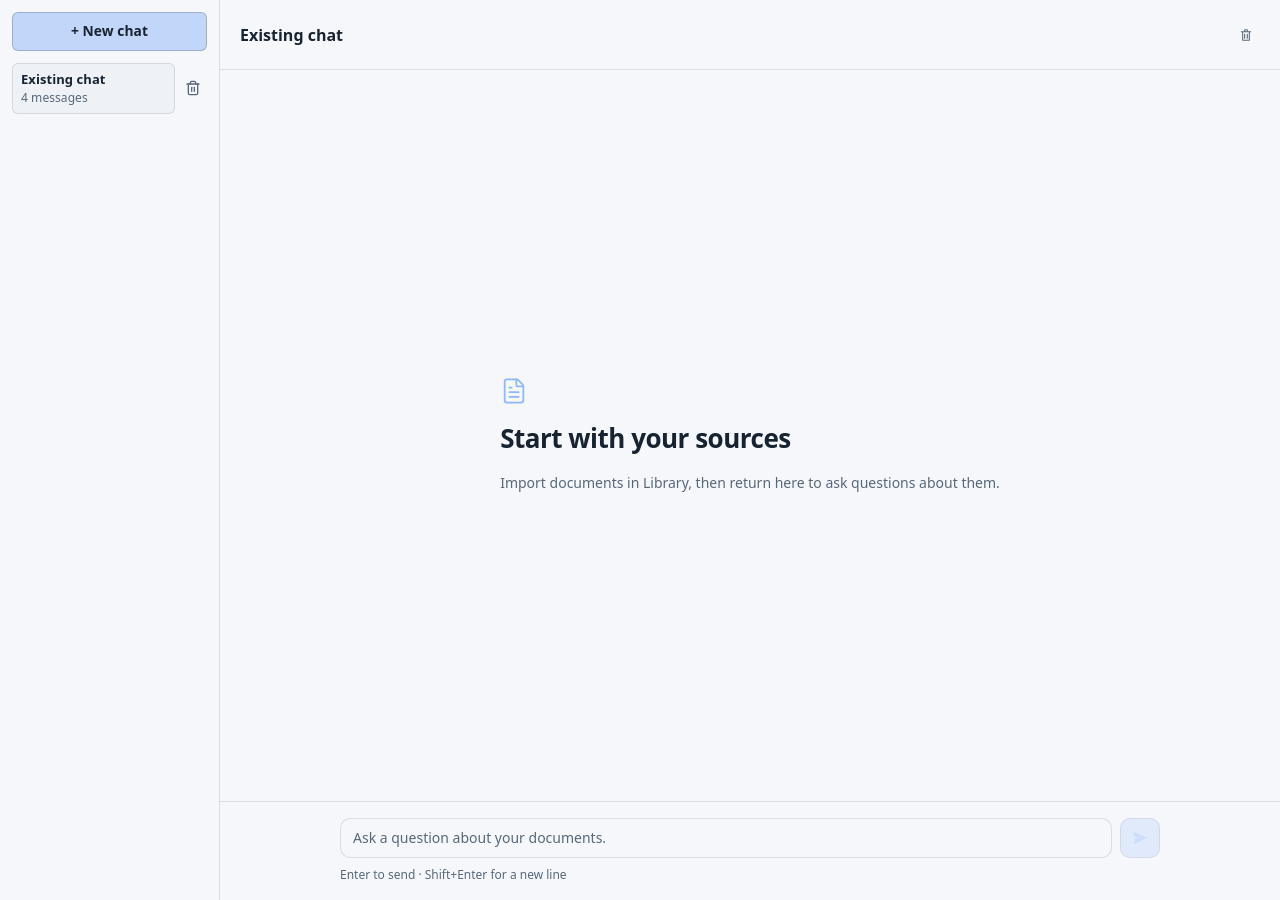
Test: regenerate an existing chat turn › reloads a newer unseen exchange instead of silently selecting it for deletion
Step 1. Click the button "Existing chat 4 messages" → [94, 88], box [12,63,175,114]
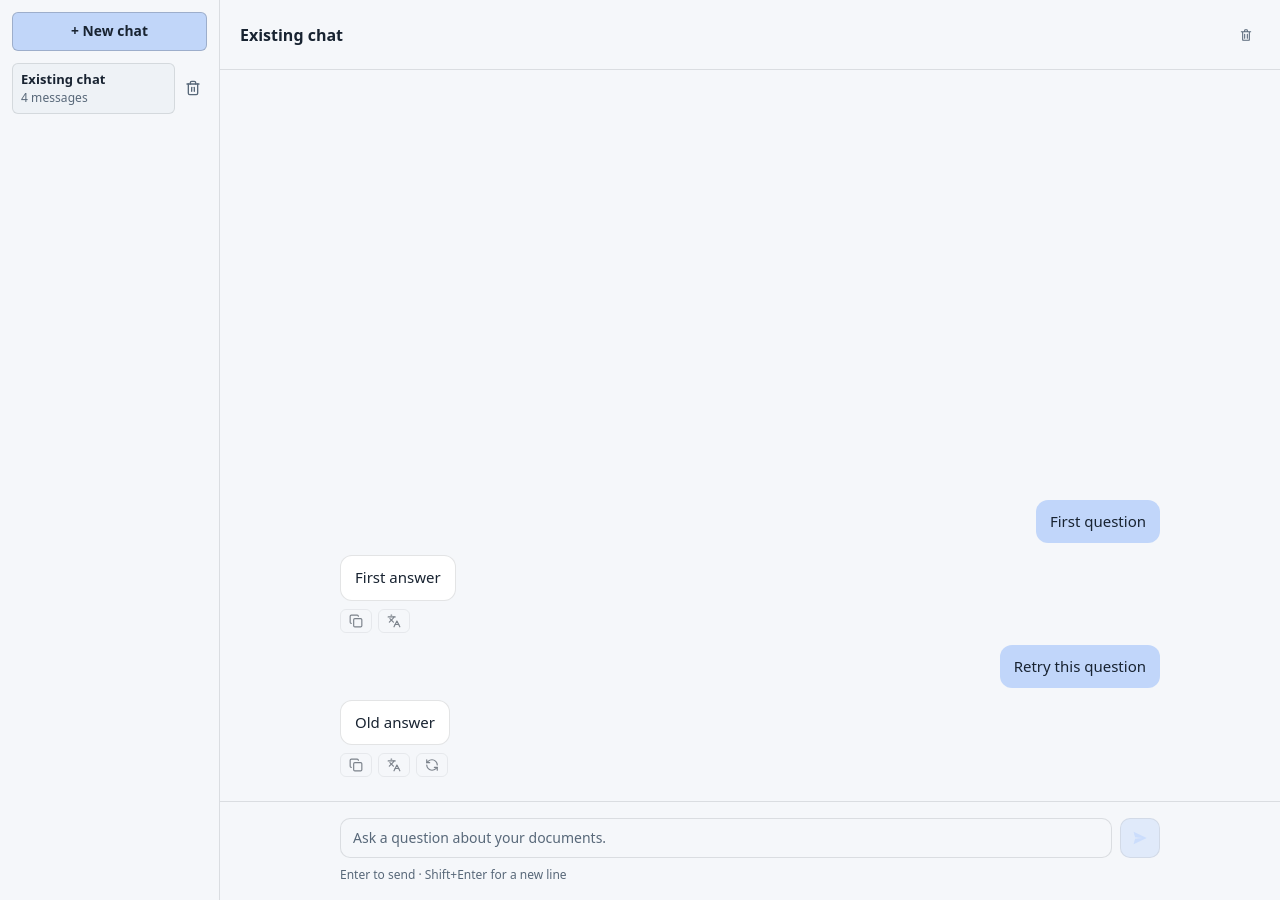
Expected: the text "Old answer" is shown, [355,711,435,734]
Step 2. Click the button named "Regenerate" → [432, 765], box [416,753,448,777]
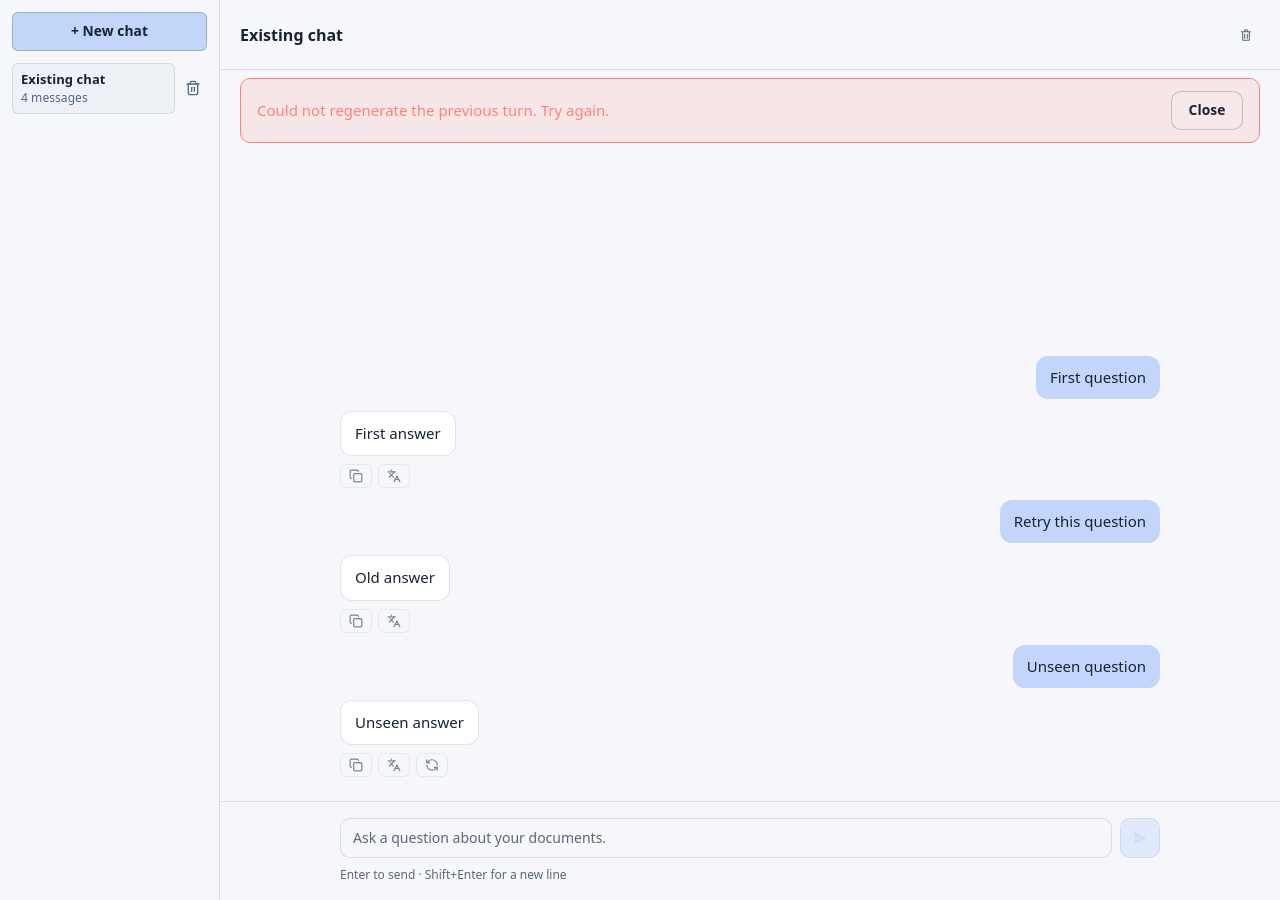
Expected: the message shows "Could not regenerate", [257,100,609,120]
Expected: the text "Unseen answer" is shown, [355,711,464,734]
